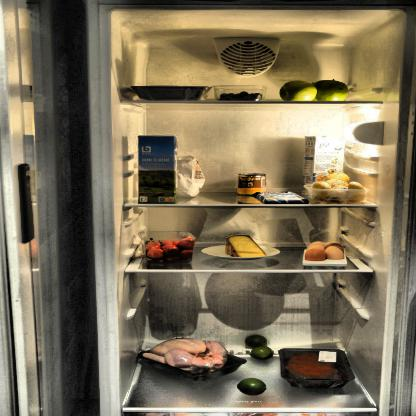apple: (279, 78, 352, 102)
beef: (282, 349, 347, 382)
blueberries: (215, 90, 263, 100)
cheese: (225, 234, 270, 258)
chicken: (140, 336, 232, 376)
chocolate: (255, 189, 307, 204)
corn: (238, 172, 265, 196)
eggs: (302, 241, 348, 263)
lime: (244, 335, 274, 360), (236, 378, 267, 396)
milk: (139, 136, 179, 205), (303, 136, 346, 197)
potato: (310, 173, 366, 204)
strawberries: (145, 233, 197, 264)
